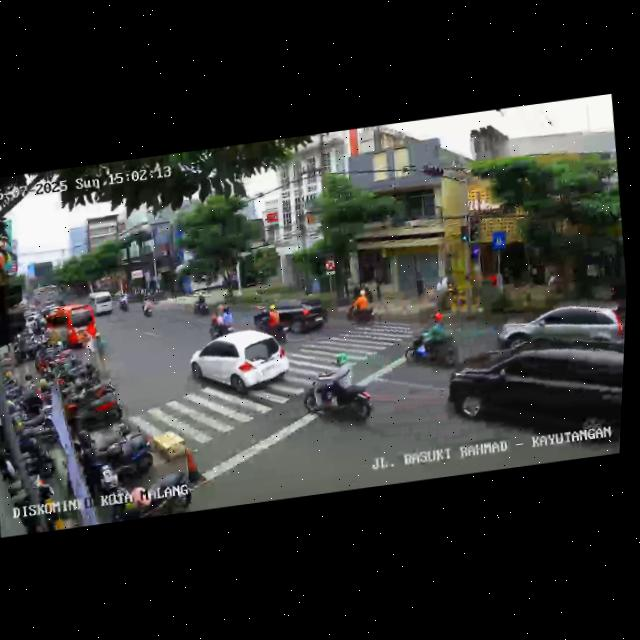car: (444, 331, 625, 467), (182, 324, 292, 406), (492, 291, 627, 355), (251, 291, 329, 342), (41, 300, 101, 355), (88, 290, 118, 318)
motorcycle: (298, 351, 381, 437), (400, 314, 464, 374), (254, 302, 290, 347), (344, 285, 377, 327), (206, 300, 236, 338), (191, 291, 208, 317), (140, 294, 156, 319), (117, 292, 131, 312)
